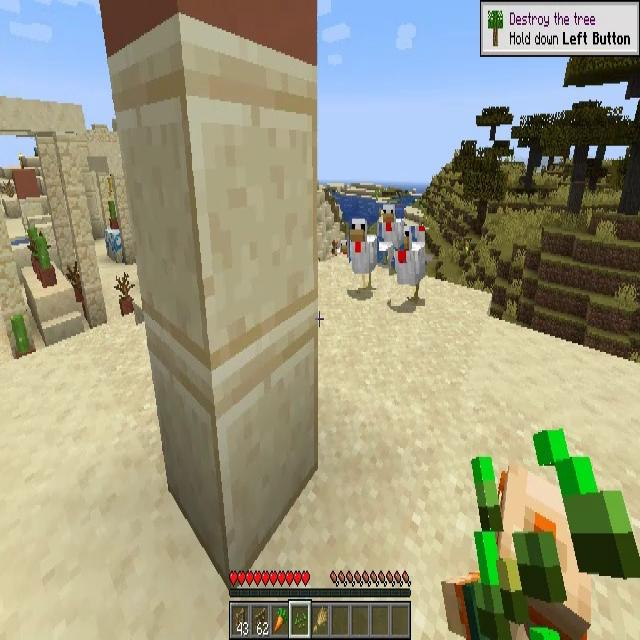duck: (391, 226, 425, 306), (349, 216, 377, 290), (379, 204, 404, 251)
